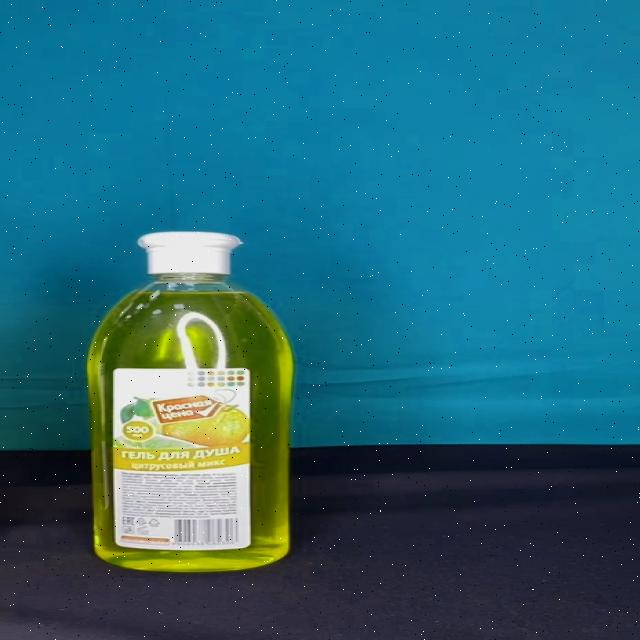Bottle: (87, 232, 296, 571)
Cap: (138, 232, 242, 275)
